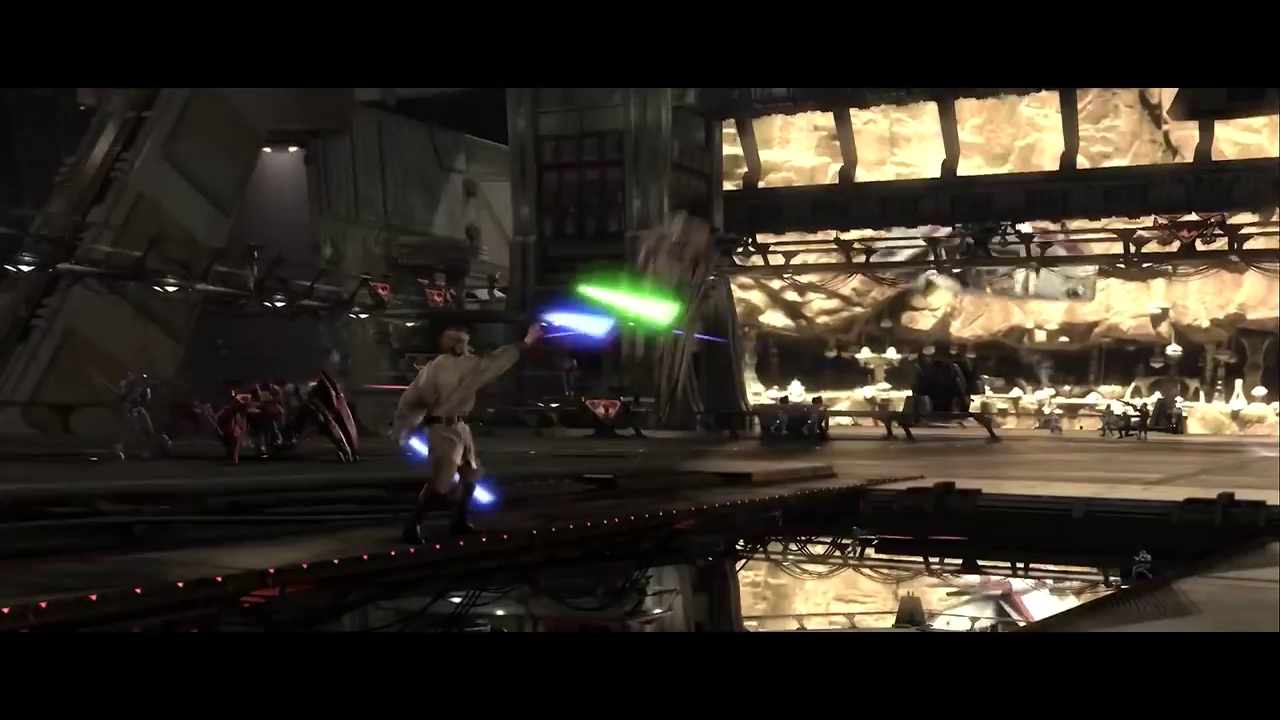lightsaber: (535, 276, 734, 335)
